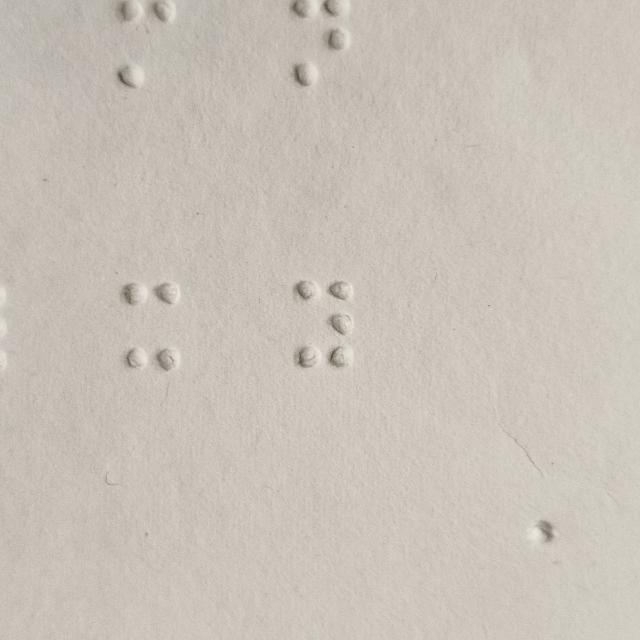letter_m: (119, 0, 174, 90)
letter_n: (293, 0, 347, 90)
letter_x: (123, 282, 181, 370)
letter_y: (295, 283, 353, 371)
